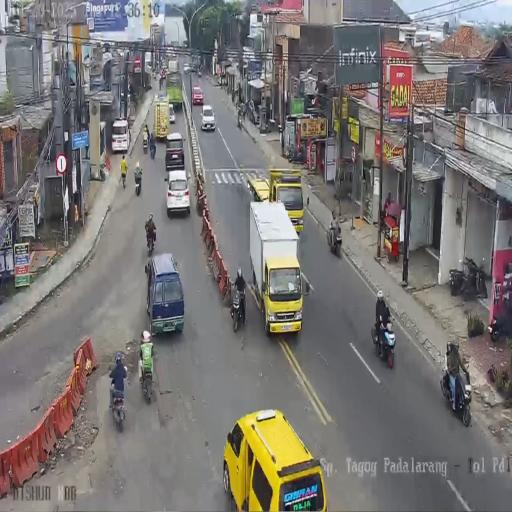3: (248, 200, 300, 335), (153, 95, 170, 142), (166, 70, 184, 111), (168, 57, 178, 73)
car: (222, 409, 326, 511), (146, 251, 185, 334), (166, 169, 190, 216), (165, 132, 185, 170), (111, 118, 129, 154), (246, 99, 260, 125), (201, 106, 216, 130), (192, 86, 204, 105), (168, 103, 175, 124), (183, 64, 192, 74)
truck: (440, 358, 472, 426), (449, 256, 486, 299), (372, 313, 396, 369), (109, 379, 127, 429), (230, 281, 246, 334), (490, 308, 512, 344), (326, 221, 342, 257), (286, 145, 304, 165), (134, 172, 142, 196), (237, 107, 244, 129), (142, 130, 149, 150), (198, 66, 202, 78)
